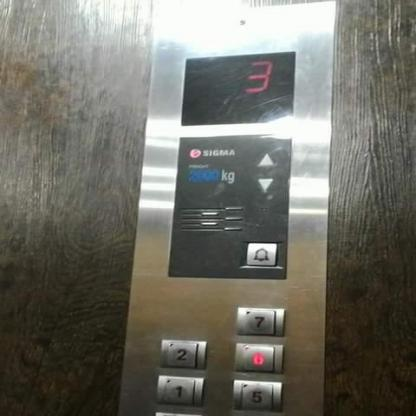1: (154, 372, 206, 407)
2: (158, 338, 208, 370)
5: (230, 377, 284, 414)
6: (232, 340, 284, 374)
7: (234, 304, 285, 336)
alarm: (241, 239, 281, 269)
led: (178, 49, 297, 127)
